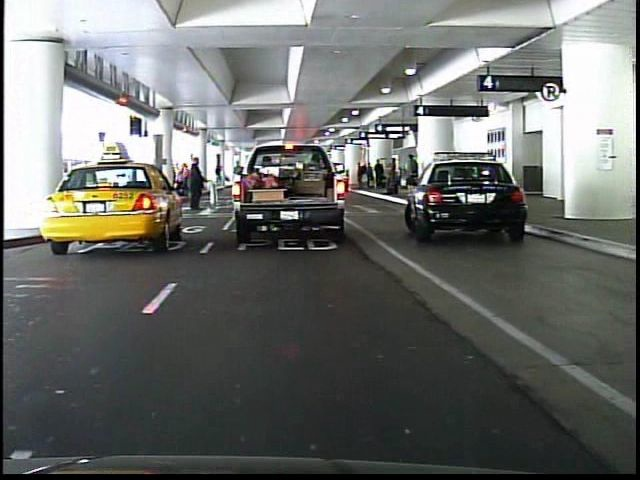person: (181, 154, 205, 214), (255, 146, 279, 202)
